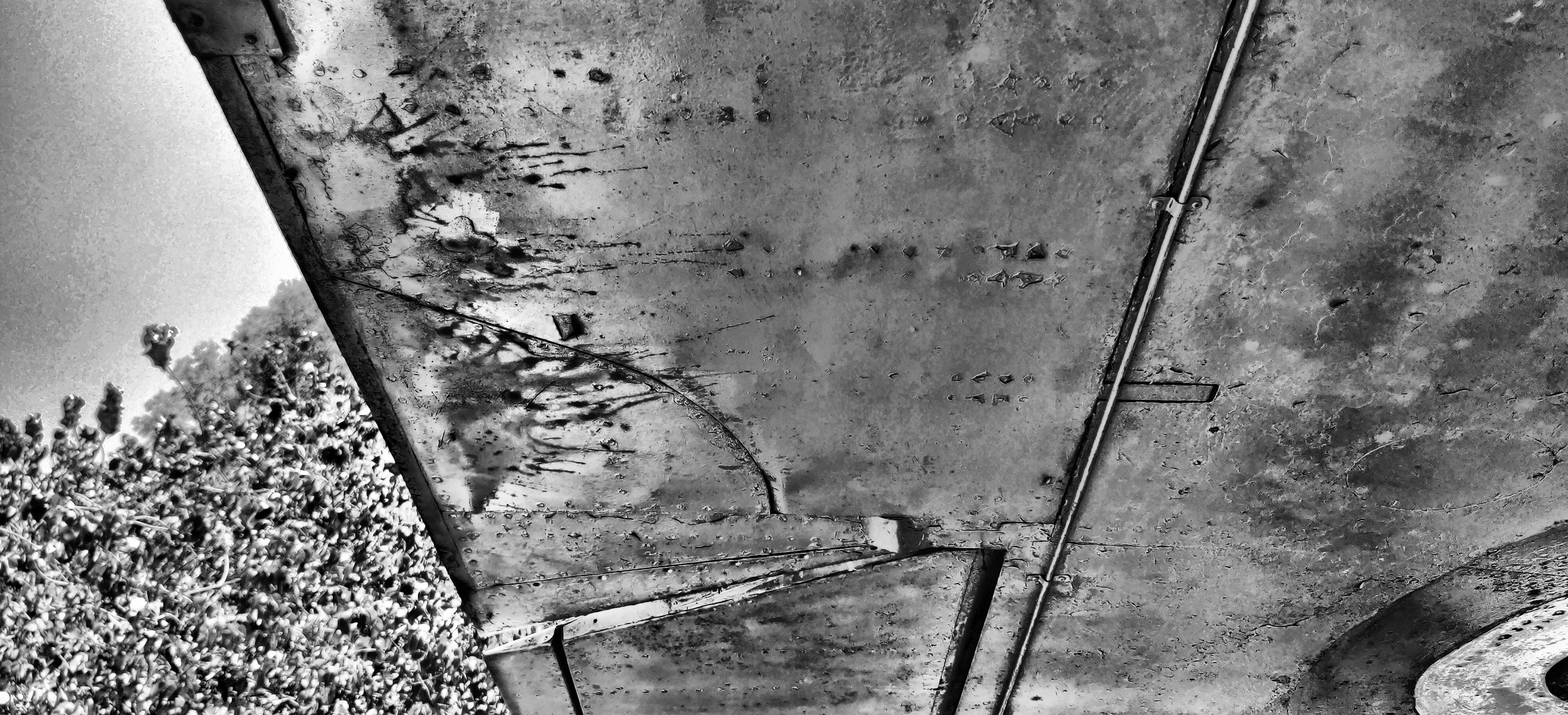crack: (979, 549, 989, 572), (1041, 476, 1052, 485)
dent: (873, 515, 917, 554), (466, 480, 507, 516), (762, 470, 792, 515)
missing-head: (189, 12, 204, 29), (285, 165, 298, 181), (662, 566, 672, 574), (597, 573, 607, 581), (485, 612, 494, 620), (798, 552, 808, 559), (730, 559, 740, 566), (532, 581, 542, 588)
paint-peel-off: (433, 217, 499, 263), (380, 99, 427, 157), (494, 330, 544, 358), (345, 222, 374, 269), (397, 171, 413, 235), (553, 314, 580, 342), (671, 514, 725, 525), (1012, 271, 1043, 289), (1202, 138, 1222, 161), (584, 512, 634, 521), (642, 382, 674, 395), (995, 242, 1019, 259), (987, 270, 1011, 287), (485, 263, 512, 277), (389, 62, 413, 76), (1027, 244, 1047, 260), (970, 370, 992, 384), (722, 238, 745, 251), (589, 69, 607, 82), (966, 393, 987, 404), (719, 108, 735, 122), (728, 267, 745, 280), (756, 110, 771, 122), (992, 394, 1010, 404), (902, 246, 917, 257), (445, 105, 461, 115), (999, 374, 1013, 384), (629, 531, 642, 541), (544, 510, 557, 519), (600, 442, 612, 451), (871, 246, 881, 255), (932, 686, 945, 691), (651, 625, 661, 629), (939, 678, 944, 685)
scratch: (525, 380, 556, 408)
